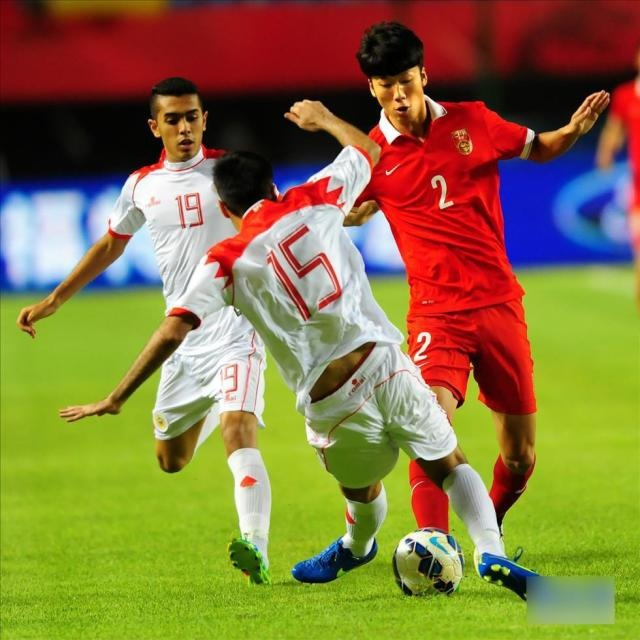obstacle: (334, 4, 638, 592)
